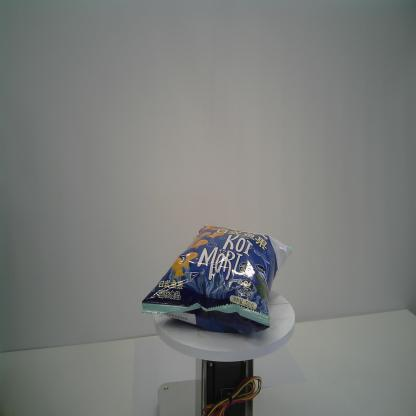Puffed Food: (141, 224, 294, 334)
